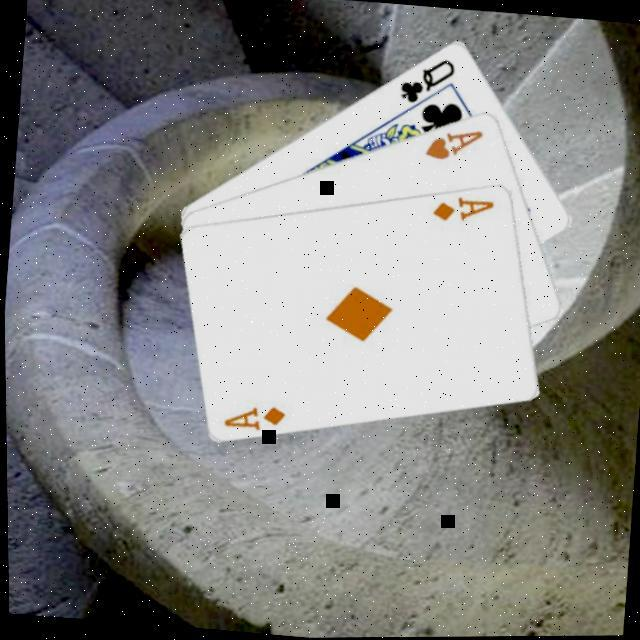AD: (218, 398, 286, 436), (426, 192, 496, 228)
AH: (419, 122, 485, 168)
QC: (394, 52, 458, 111)
